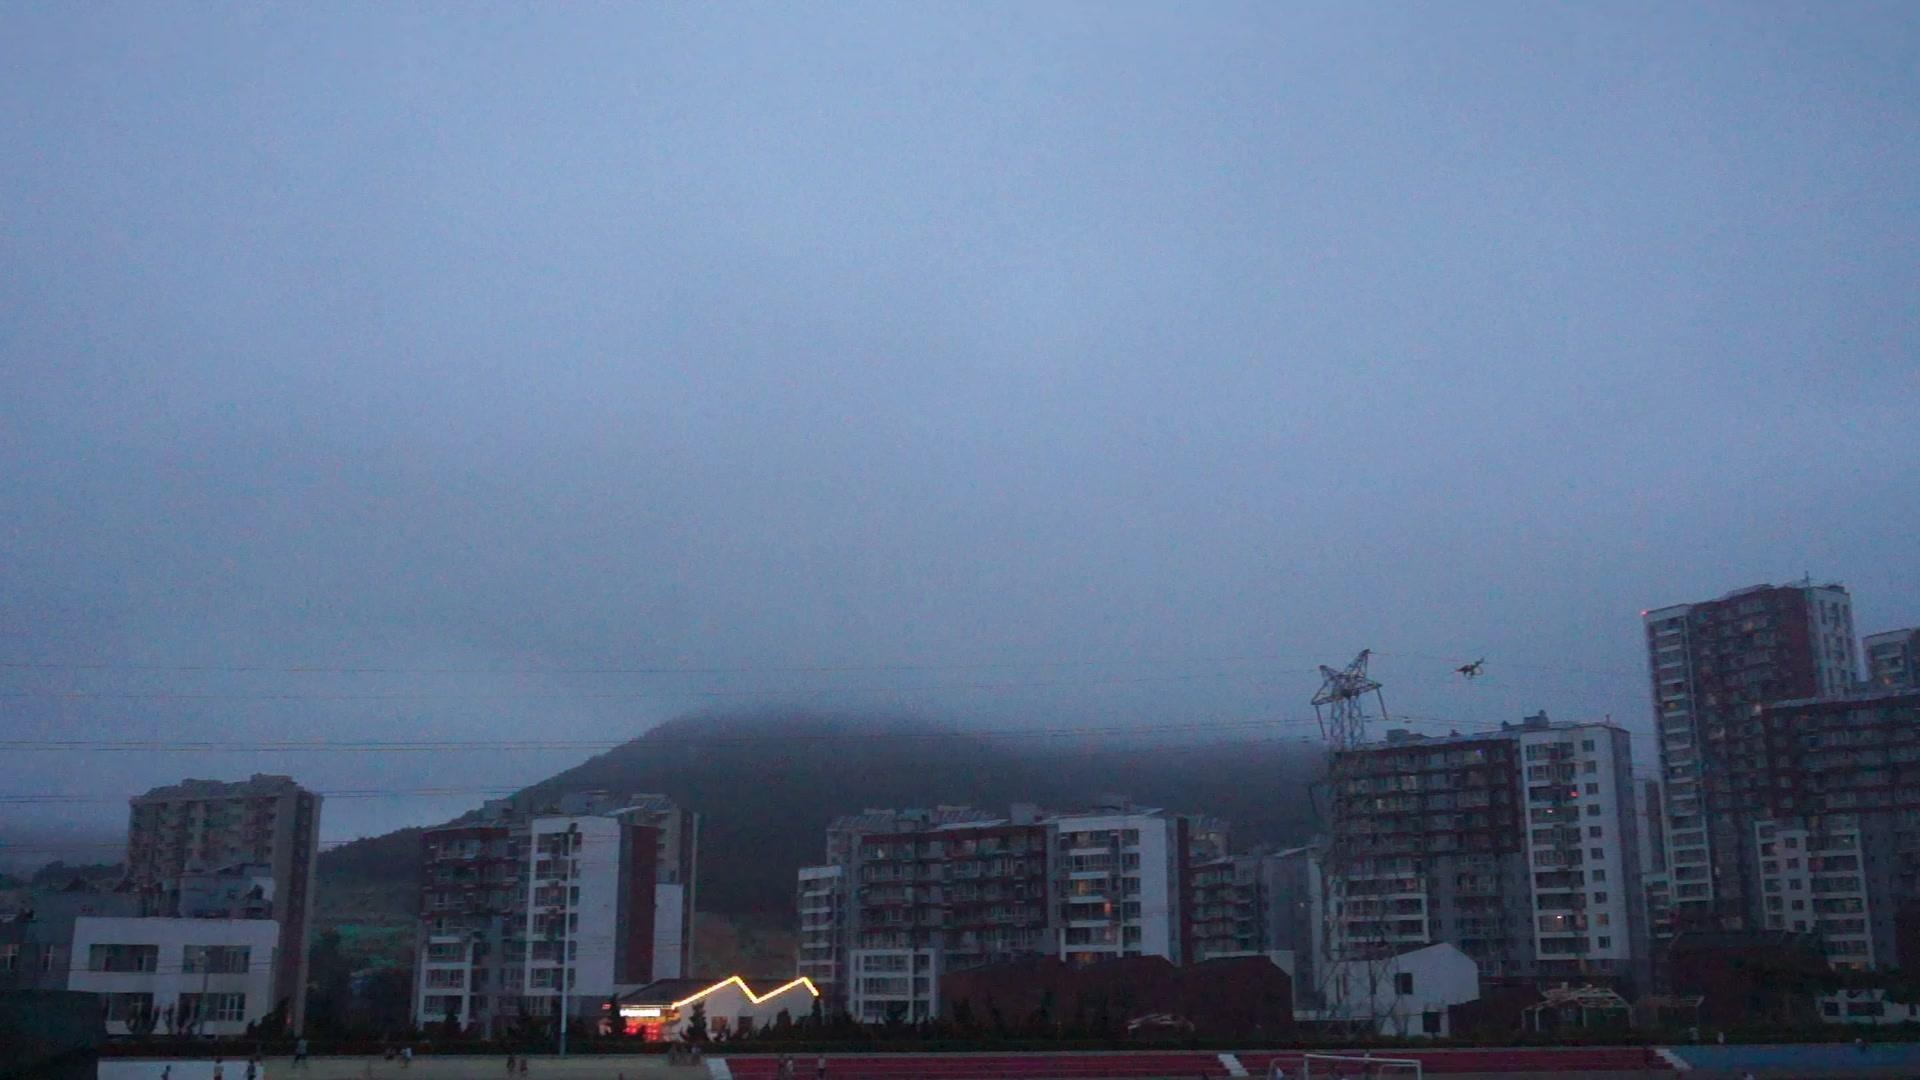UAV: (1452, 657, 1489, 680)
